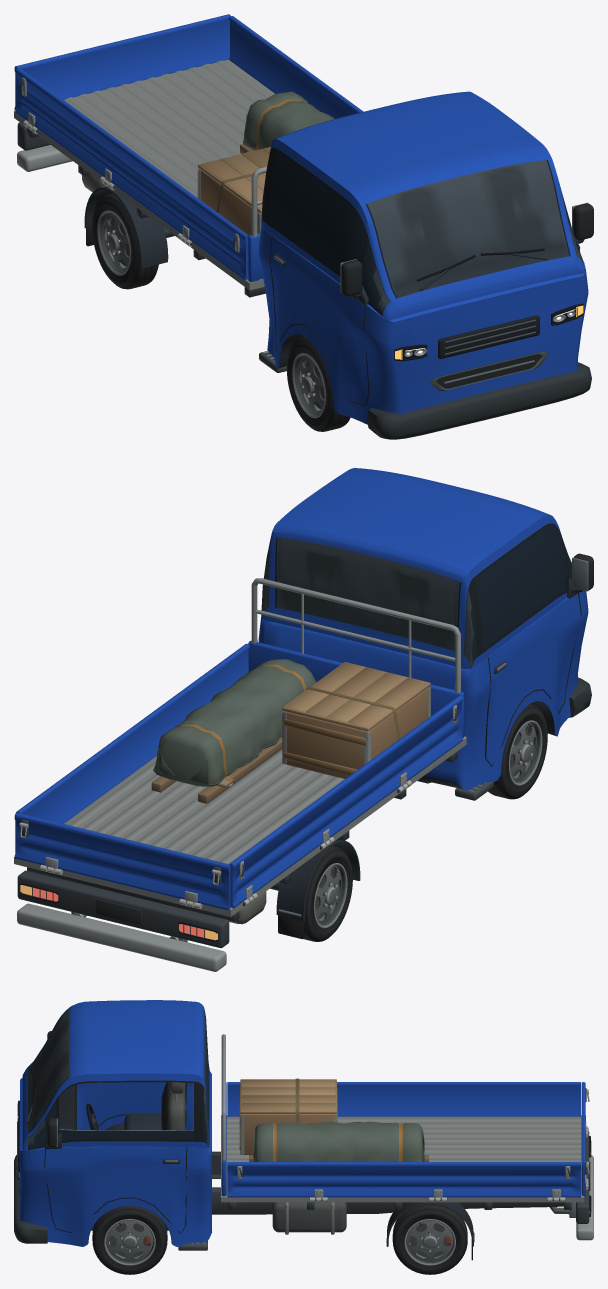
File: truck_real.glb
The picture shows the model from 3 angles, top to bottom: view 1: azimuth 30°, elevation 25°; view 2: azimuth 150°, elevation 25°; view 3: azimuth 270°, elevation 25°; orthographic projection. The views are drawn at different scales.
Visible parts, largest first — view 1: body, wheelRR, wheelFR; view 2: body, wheelRR, wheelFR, lampRear; view 3: body, wheelRL, wheelFL.
Boxes of the visible parts, box(x1,y1,x2,y2) form: body: box(14, 14, 593, 439); wheelRR: box(92, 193, 158, 289); wheelFR: box(286, 336, 350, 431); body: box(14, 468, 593, 971); wheelRR: box(303, 846, 352, 941); wheelFR: box(488, 704, 547, 799); lampRear: box(20, 885, 217, 940); body: box(14, 1000, 593, 1260); wheelRL: box(392, 1204, 467, 1274); wheelFL: box(92, 1206, 167, 1274).
Bounding box in the file's own units: 1.96 × 1.97 × 5.1.
